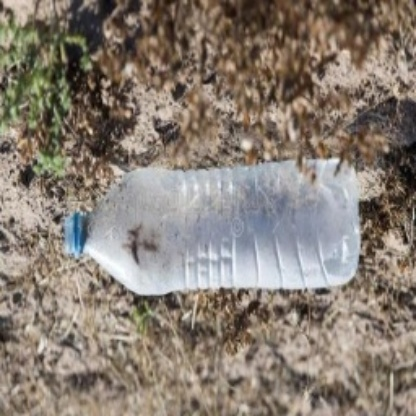bottle: (55, 157, 361, 293)
